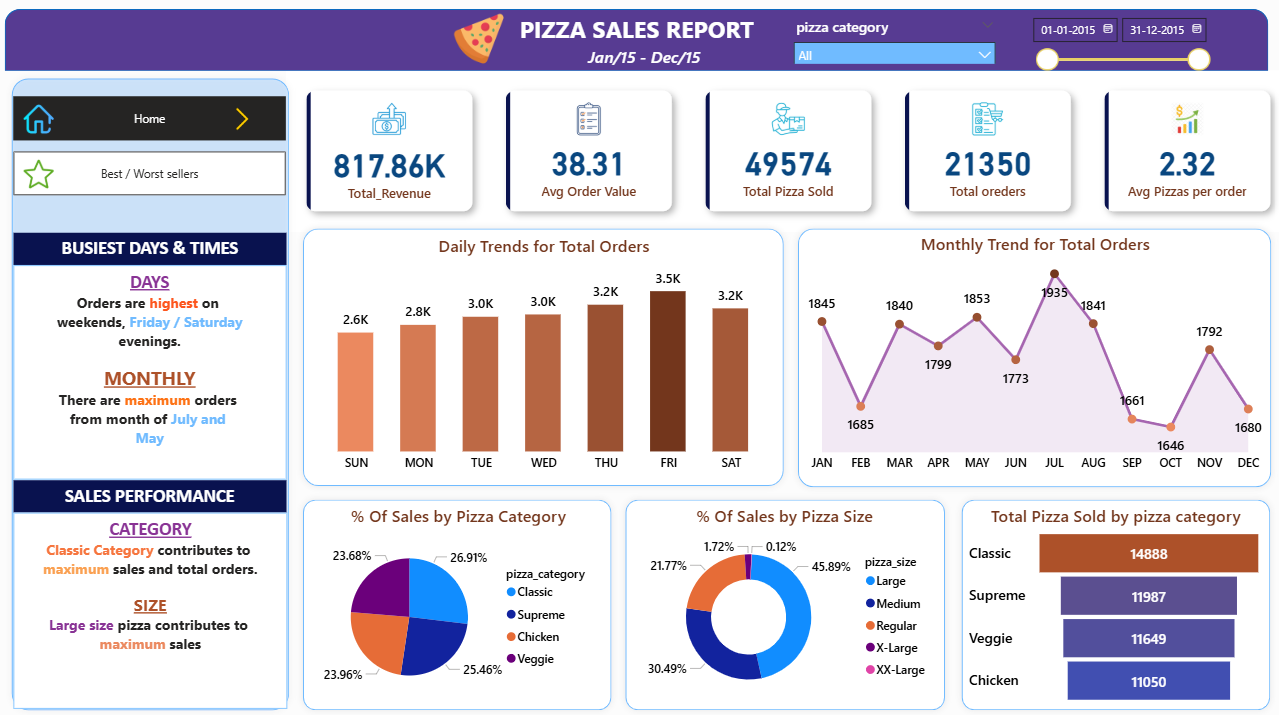

Layout of this report page (visuals, bound fields, positions):
{"tool":"powerbi","page":{"name":"Home","canvas":[1500,820],"ordinal":0},"visuals":[{"type":"cardVisual","fields":{"Data":["pizza_sales.Total_Revenue","pizza_sales.Avg Order Value","pizza_sales.Total Pizza Sold","pizza_sales.Total oreders","pizza_sales.Avg Pizzas per order"]},"box":[349,82,1151.4,184.9],"z":0},{"type":"shape","box":[27.3,11.3,1444,70.8],"z":1000},{"type":"shape","box":[26.9,82.2,332.9,738.1],"z":2000},{"type":"textbox","box":[599.8,11.3,299.1,56.3],"z":3000},{"type":"textbox","box":[672.2,48.2,170.5,49.9],"z":4000},{"type":"image","box":[538.7,16.1,61.1,59.5],"z":5000},{"type":"shape","box":[359.8,253.6,565.3,310.3],"z":6000},{"type":"columnChart","title":"Daily Trends for Total Orders","fields":{"Y":["pizza_sales.Total oreders"],"Category":["pizza_sales.order day"]},"box":[374,269.2,538.4,280.5],"z":7000},{"type":"shape","box":[925.1,253.6,556.8,311.7],"z":8000},{"type":"areaChart","title":"Monthly Trend for Total Orders","fields":{"Category":["pizza_sales.order month"],"Y":["pizza_sales.Total oreders"]},"box":[937.9,267.8,532.7,281.9],"z":9000},{"type":"shape","box":[359.8,563.9,368.4,256.4],"z":10000},{"type":"shape","box":[728.2,563.9,381.1,256.4],"z":11000},{"type":"shape","box":[1113.6,563.9,368.4,256.4],"z":12000},{"type":"pieChart","title":"% Of Sales by Pizza Category","fields":{"Category":["pizza_sales.pizza_category"],"Y":["pizza_sales.Total_Revenue"]},"box":[374,576.6,342.8,233.8],"z":13000},{"type":"donutChart","title":"% Of Sales by Pizza Size","fields":{"Category":["pizza_sales.pizza_size"],"Y":["pizza_sales.Total_Revenue"]},"box":[739.5,576.6,357,233.8],"z":14000},{"type":"funnel","title":"Total Pizza Sold by pizza category","fields":{"Category":["pizza_sales.pizza_category"],"Y":["pizza_sales.Total Pizza Sold"]},"box":[1124.9,576.6,345.7,233.8],"z":15000},{"type":"textbox","box":[36.8,267.8,311.7,36.8],"z":16000},{"type":"textbox","box":[36.8,304.6,311.7,245.1],"z":17000},{"type":"textbox","box":[36.8,549.7,311.7,36.8],"z":18000},{"type":"textbox","box":[36.8,586.5,313.1,223.8],"z":19000},{"type":"slicer","fields":{"Values":["pizza_sales.pizza_category"]},"box":[918,15.6,250.8,58.1],"z":20000},{"type":"slicer","fields":{"Values":["pizza_sales.order_date"]},"box":[1190,11.4,222.9,87.1],"z":21000},{"type":"pageNavigator","box":[37.1,111.4,311.4,50],"z":21001},{"type":"pageNavigator","box":[37.1,174.3,311.4,50],"z":21002},{"type":"image","box":[205.7,124.3,185.7,25.7],"z":21003},{"type":"image","box":[27.1,120,77.1,34.3],"z":21004},{"type":"image","box":[27.1,182.9,77.1,34.3],"z":21005}]}

Visuals, with their boxes in screenshot pixels (x1, y1, x2, y2), scaled from the page's 1500x820 canvas onto the 1279x715 screenshot:
cardVisual - pizza_sales.Total_Revenue x pizza_sales.Avg Order Value: <bbox>298, 72, 1278, 233</bbox>
shape: <bbox>23, 10, 1255, 72</bbox>
shape: <bbox>23, 72, 307, 714</bbox>
textbox: <bbox>511, 10, 766, 59</bbox>
textbox: <bbox>573, 42, 719, 86</bbox>
image: <bbox>459, 14, 511, 66</bbox>
shape: <bbox>307, 221, 789, 492</bbox>
"Daily Trends for Total Orders" columnChart: <bbox>319, 235, 778, 479</bbox>
shape: <bbox>789, 221, 1264, 493</bbox>
"Monthly Trend for Total Orders" areaChart: <bbox>800, 234, 1254, 479</bbox>
shape: <bbox>307, 492, 621, 714</bbox>
shape: <bbox>621, 492, 946, 714</bbox>
shape: <bbox>950, 492, 1264, 714</bbox>
"% Of Sales by Pizza Category" pieChart: <bbox>319, 503, 611, 707</bbox>
"% Of Sales by Pizza Size" donutChart: <bbox>631, 503, 935, 707</bbox>
"Total Pizza Sold by pizza category" funnel: <bbox>959, 503, 1254, 707</bbox>
textbox: <bbox>31, 234, 297, 266</bbox>
textbox: <bbox>31, 266, 297, 479</bbox>
textbox: <bbox>31, 479, 297, 511</bbox>
textbox: <bbox>31, 511, 298, 707</bbox>
slicer - pizza_sales.pizza_category: <bbox>783, 14, 997, 64</bbox>
slicer - pizza_sales.order_date: <bbox>1015, 10, 1205, 86</bbox>
pageNavigator: <bbox>32, 97, 297, 141</bbox>
pageNavigator: <bbox>32, 152, 297, 196</bbox>
image: <bbox>175, 108, 334, 131</bbox>
image: <bbox>23, 105, 89, 135</bbox>
image: <bbox>23, 159, 89, 189</bbox>
